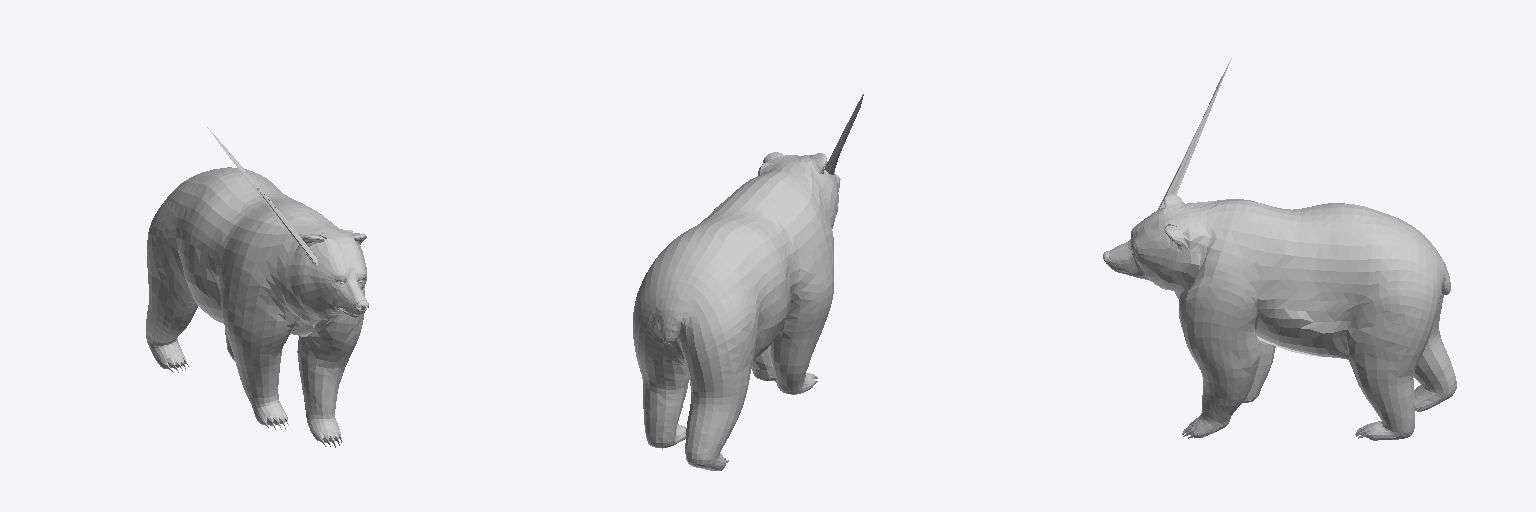
Rendered from Bear0115.obj.
3 renders of one model, left to right at view 1: azimuth 30°, elevation 25°; view 2: azimuth 150°, elevation 25°; view 3: azimuth 270°, elevation 25°, orthographic.
Parts seen in each view (by area): view 1: Object_237; view 2: Object_237; view 3: Object_237.
Part boxes in pixels (x1,y1,x2,y2): Object_237: (146,127,368,447); Object_237: (633,94,863,470); Object_237: (1103,58,1456,440).
Size of the model in its own units: 2.34 by 5.05 by 4.92.